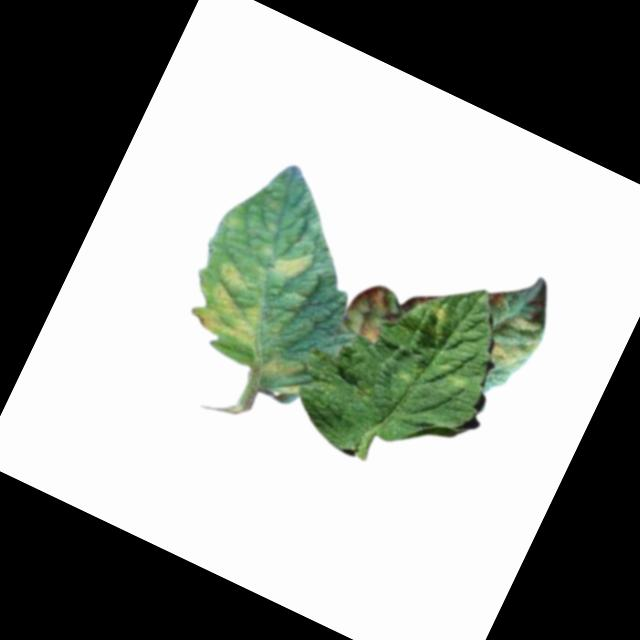Leaf_Mold: (183, 253, 291, 359), (338, 276, 408, 349), (481, 306, 548, 378), (267, 238, 320, 291), (258, 343, 314, 393), (413, 295, 461, 347)
